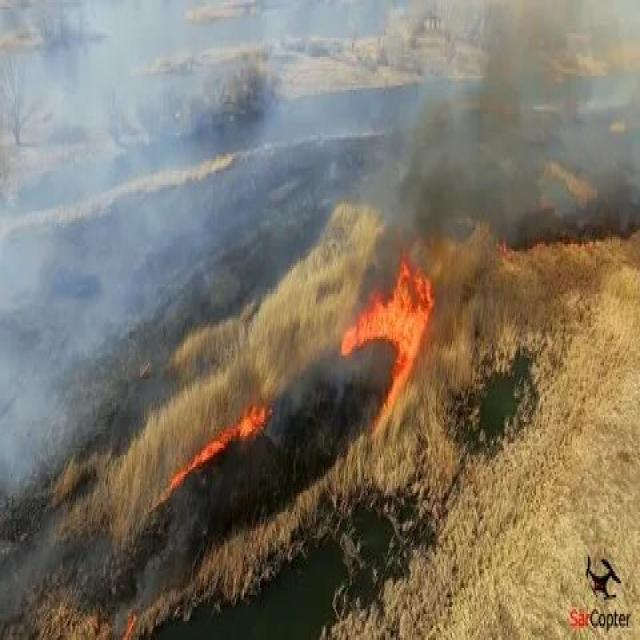Fire: (326, 247, 444, 430), (148, 382, 274, 512)
Smoke: (0, 0, 640, 242)
